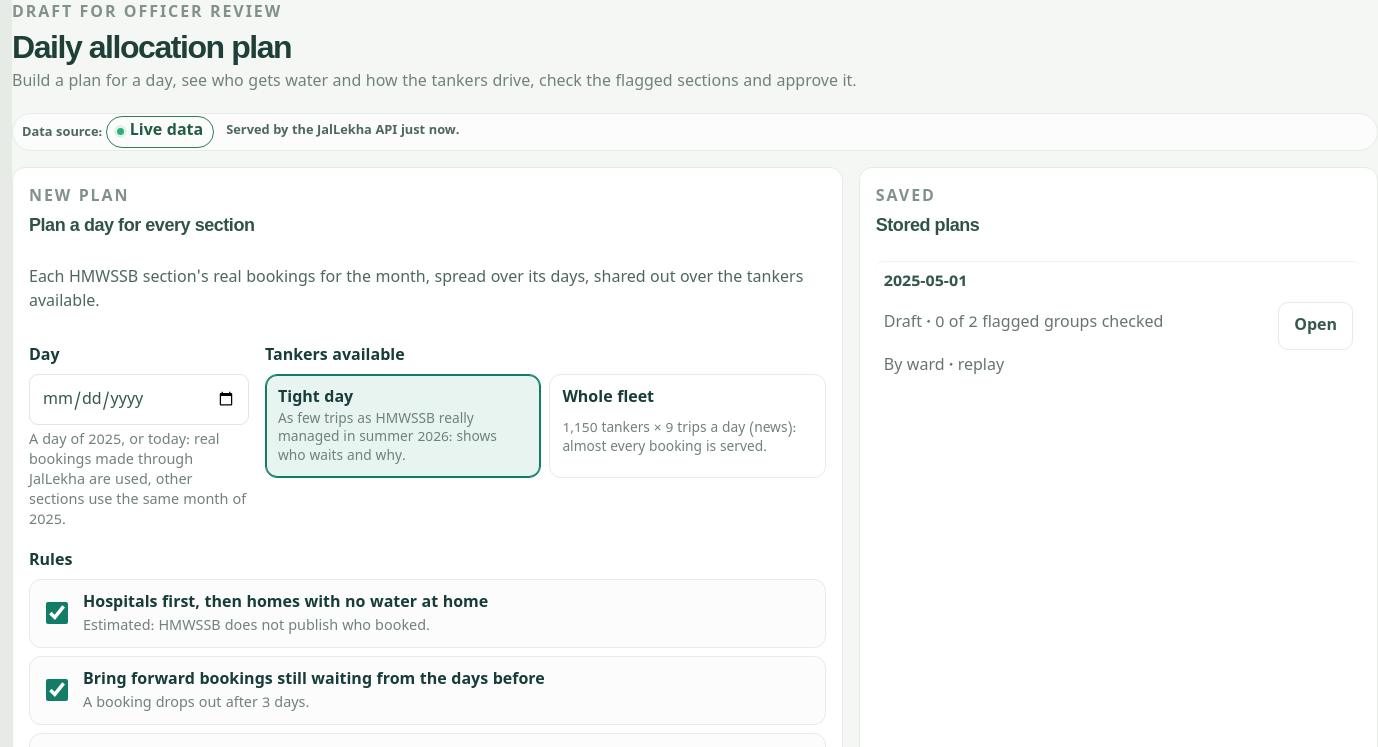
Test case: PlanExperience (sample fallback) › shows ward and section names, and the id only where no name is known
Step 1. Click the button with aria-label "Open plan 2025-05-01" → (1316, 326), box [1278,302,1353,350]
(page scrolled)
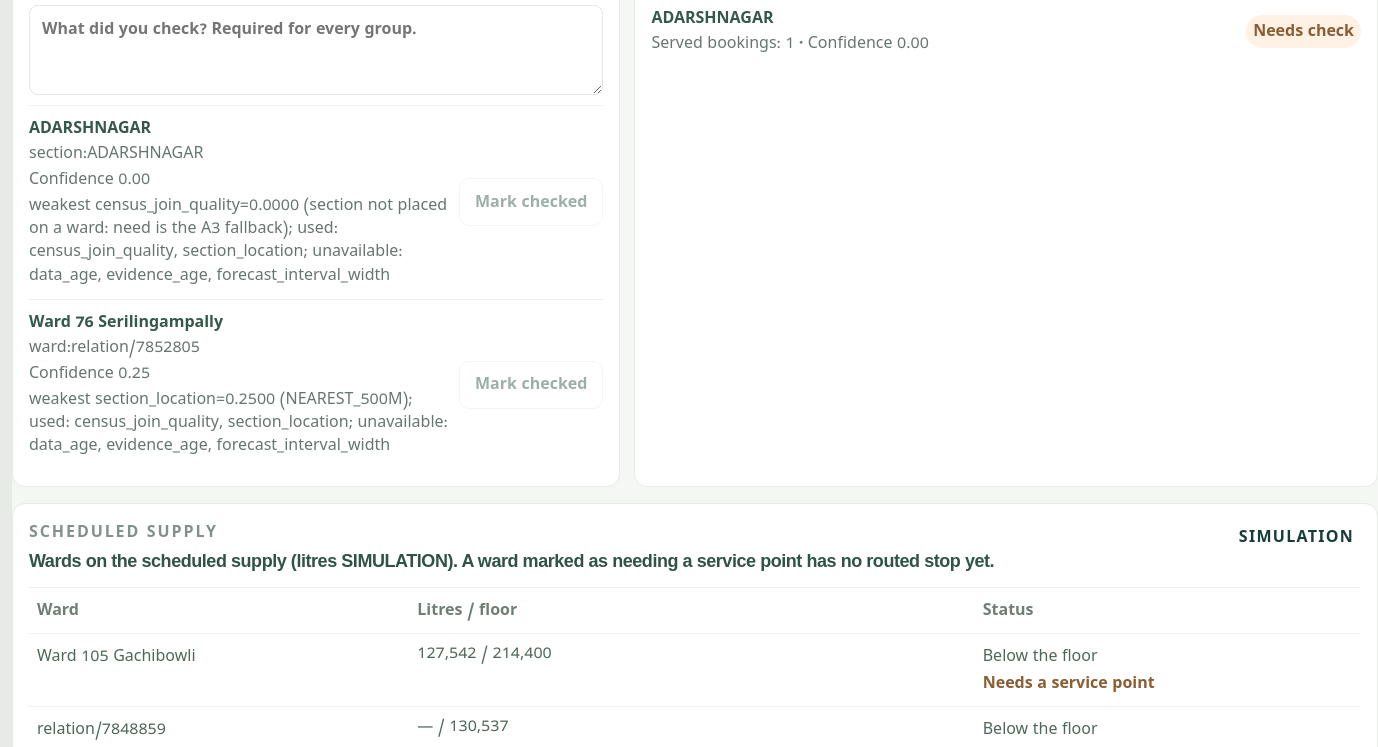
Expected: the button with aria-label "Mark ADARSHNAGAR checked" is shown, [459,178,603,226]
Expected: the button with aria-label "Mark Ward 76 Serilingampally checked" is shown, [459,361,603,409]
